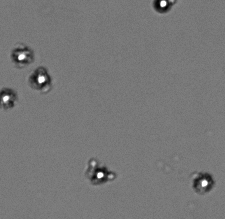Living Cell: (29, 66, 52, 89), (89, 163, 111, 185), (192, 172, 214, 194), (11, 44, 33, 65), (1, 87, 16, 110), (151, 1, 174, 14)
